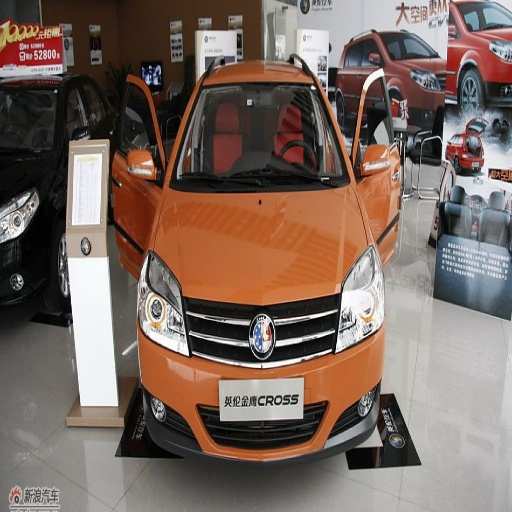front_bumper: (139, 299, 380, 461)
front_left_light: (337, 248, 382, 351)
front_right_door: (125, 85, 159, 166)
front_right_light: (140, 255, 190, 355)
hood: (154, 186, 365, 320)
